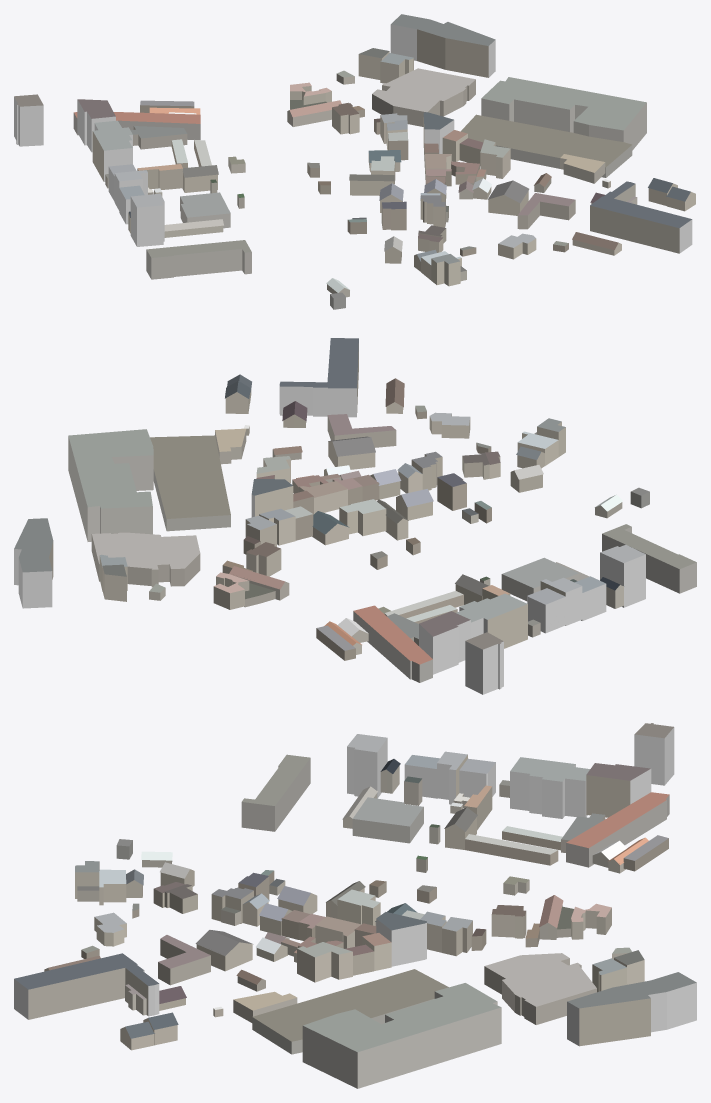
The picture shows the model from 3 angles, top to bottom: view 1: azimuth 30°, elevation 25°; view 2: azimuth 150°, elevation 25°; view 3: azimuth 270°, elevation 25°; orthographic projection. The views are drawn at different scales.
Parts seen in each view (by area): view 1: tuile; view 2: tuile; view 3: tuile.
Boxes of the visible parts, left/top/right/bottom form: tuile: left=14, top=14, right=695, bottom=309; tuile: left=14, top=338, right=696, bottom=694; tuile: left=14, top=723, right=696, bottom=1088.
Size of the model in its own units: 299 by 34.61 by 284.
